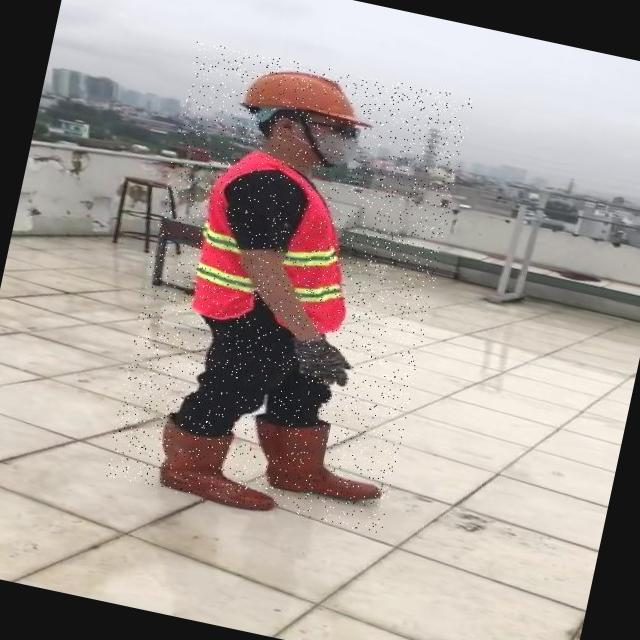boots: (146, 414, 289, 516), (244, 412, 390, 509)
helmet: (239, 56, 369, 130)
vest: (182, 143, 372, 343)
